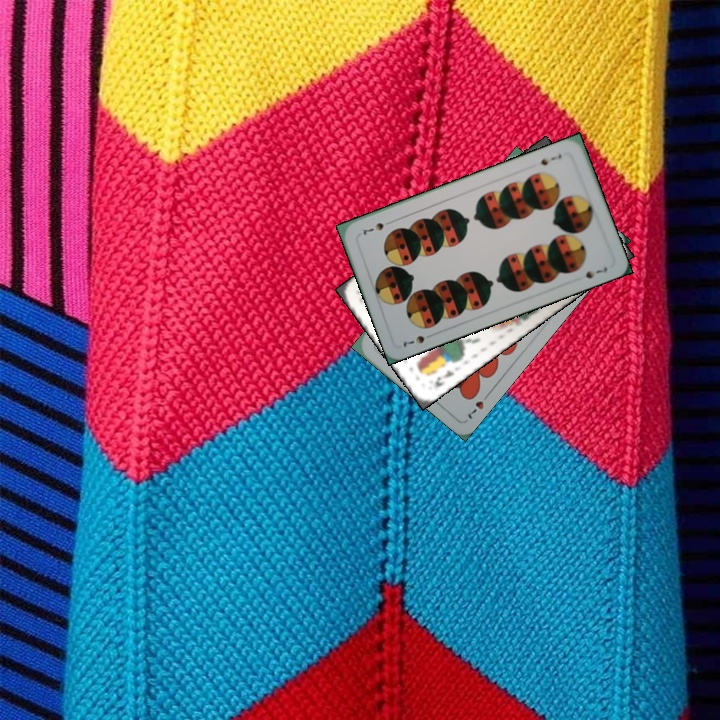EK: (430, 366, 457, 390)
H7: (464, 388, 493, 422)
S7: (399, 329, 437, 350), (537, 150, 564, 168)
